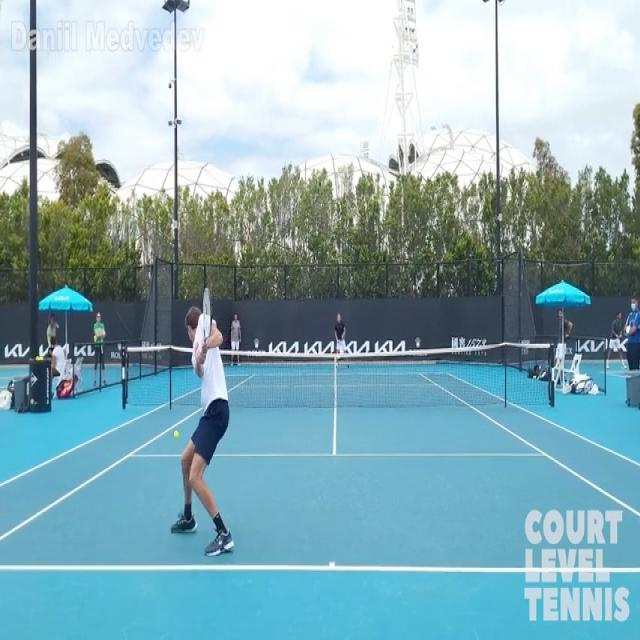backhand-ready: (159, 272, 255, 566)
